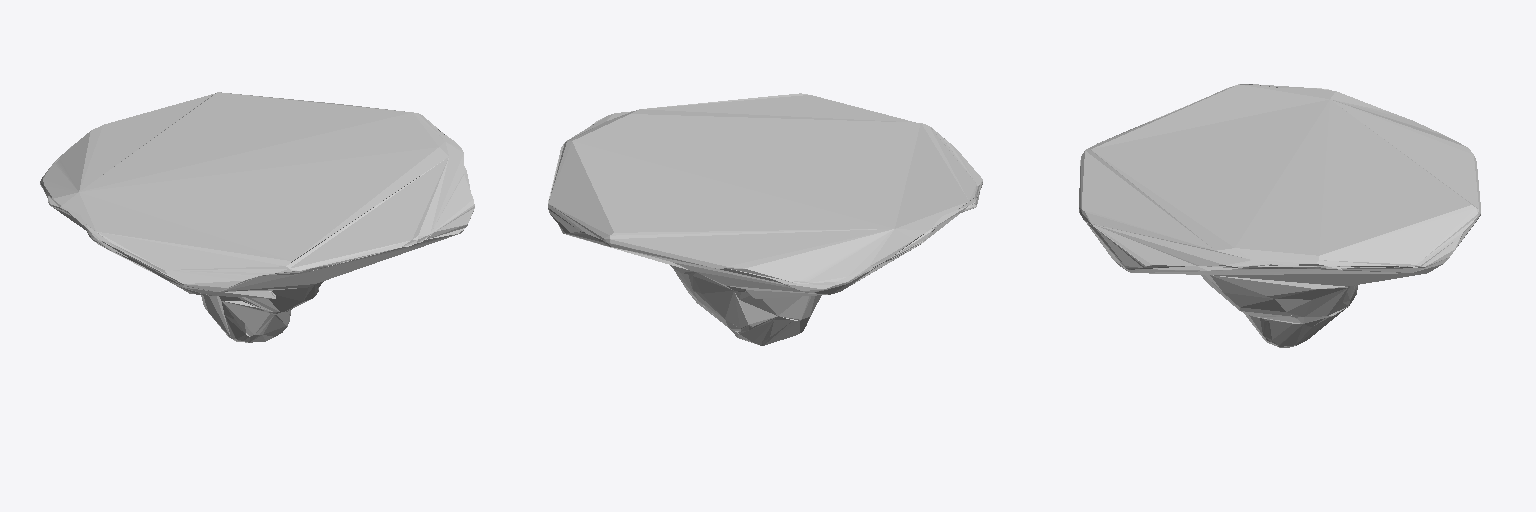
The model's file is bigfloat.obj.
3 renders of one model, left to right at view 1: azimuth 30°, elevation 25°; view 2: azimuth 150°, elevation 25°; view 3: azimuth 270°, elevation 25°, orthographic.
Visible parts, largest first — view 1: Cube; view 2: Cube; view 3: Cube.
Part boxes in pixels (left/top/right/bottom): Cube: left=40, top=92, right=474, bottom=342; Cube: left=548, top=93, right=982, bottom=345; Cube: left=1079, top=84, right=1480, bottom=347.
Bounding box in the file's own units: 10.37 × 4.6 × 9.72.